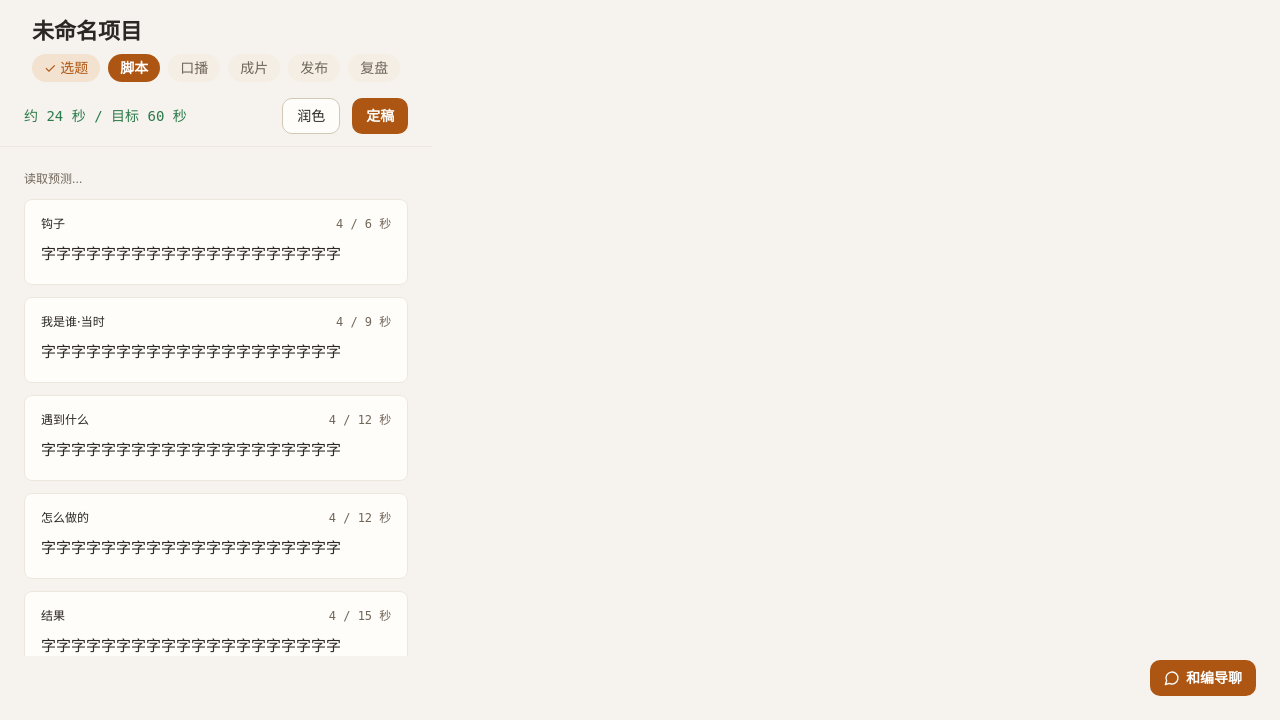
Test case: ProjectWorkspace › title input follows the project after it is renamed server-side
Click the button "定稿". click: click(380, 116)
box: [352,98,408,134]
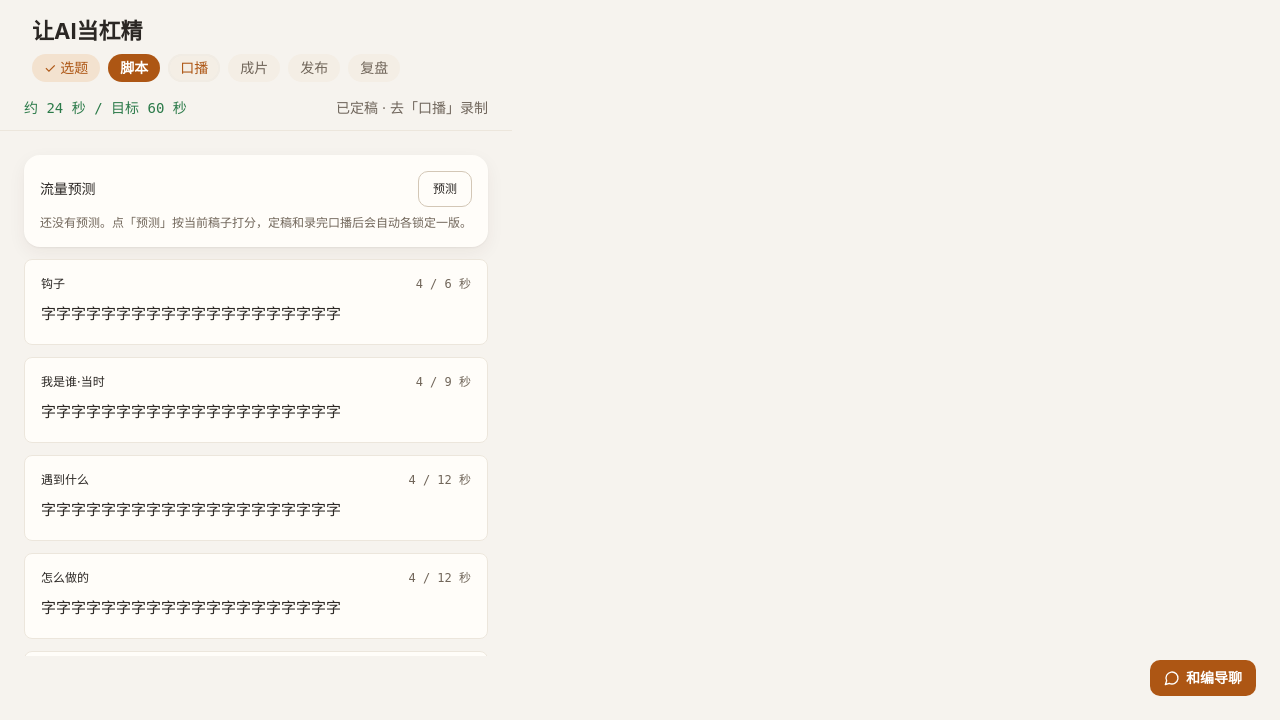
Expected: the field showing "让AI当杠精" holds "让AI当杠精", [32,16,480,42]
